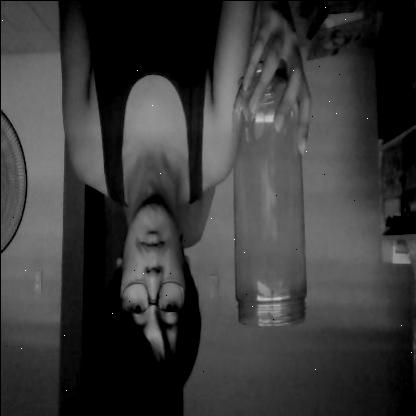Plastic Bottle: (228, 69, 304, 331)
